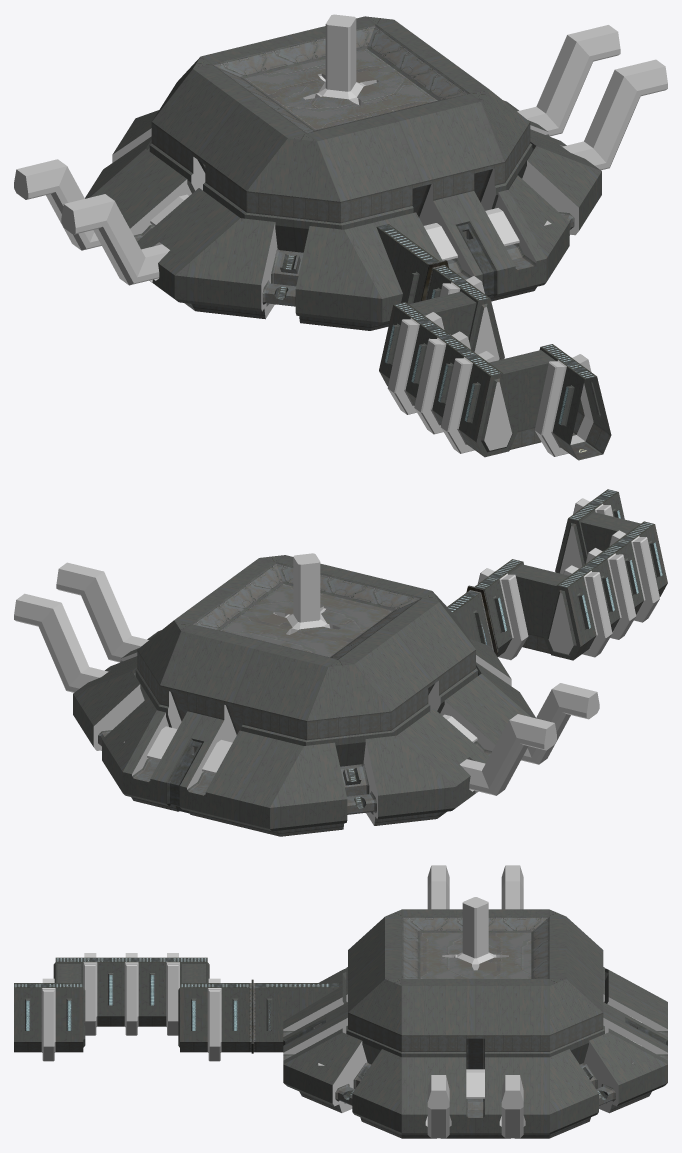
The picture shows the model from 3 angles, top to bottom: view 1: azimuth 30°, elevation 25°; view 2: azimuth 150°, elevation 25°; view 3: azimuth 270°, elevation 25°; orthographic projection. The views are drawn at different scales.
Parts seen in each view (by area): view 1: -Clusters; view 2: -Clusters; view 3: -Clusters.
Boxes of the visible parts, x1,y1,x2,y2 form: -Clusters: [14, 14, 667, 460]; -Clusters: [14, 489, 667, 836]; -Clusters: [14, 865, 667, 1138].
Bounding box in the file's own units: 2883 × 3537 × 1013.
